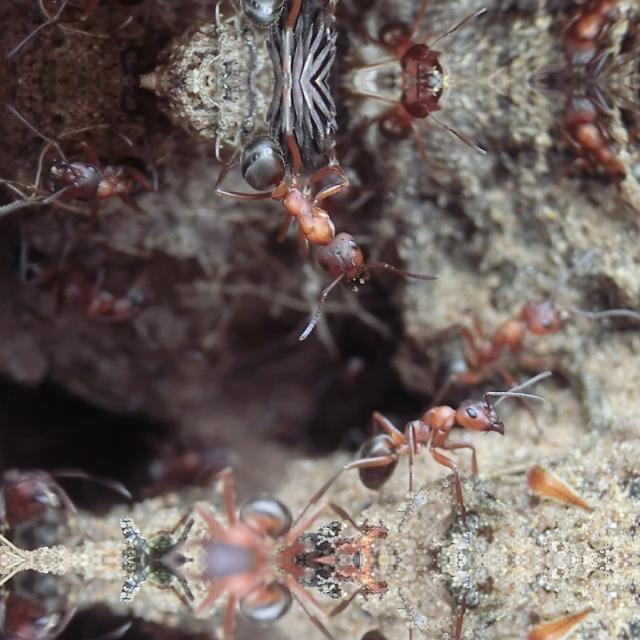Formica: (230, 124, 404, 304), (428, 244, 610, 392), (346, 368, 524, 510), (143, 454, 329, 558), (11, 120, 186, 220), (10, 232, 170, 334), (0, 432, 124, 558), (143, 560, 329, 640), (342, 80, 496, 170), (342, 0, 496, 80), (538, 80, 640, 194), (0, 558, 124, 640), (538, 0, 638, 80), (9, 0, 184, 40), (346, 608, 524, 640)
